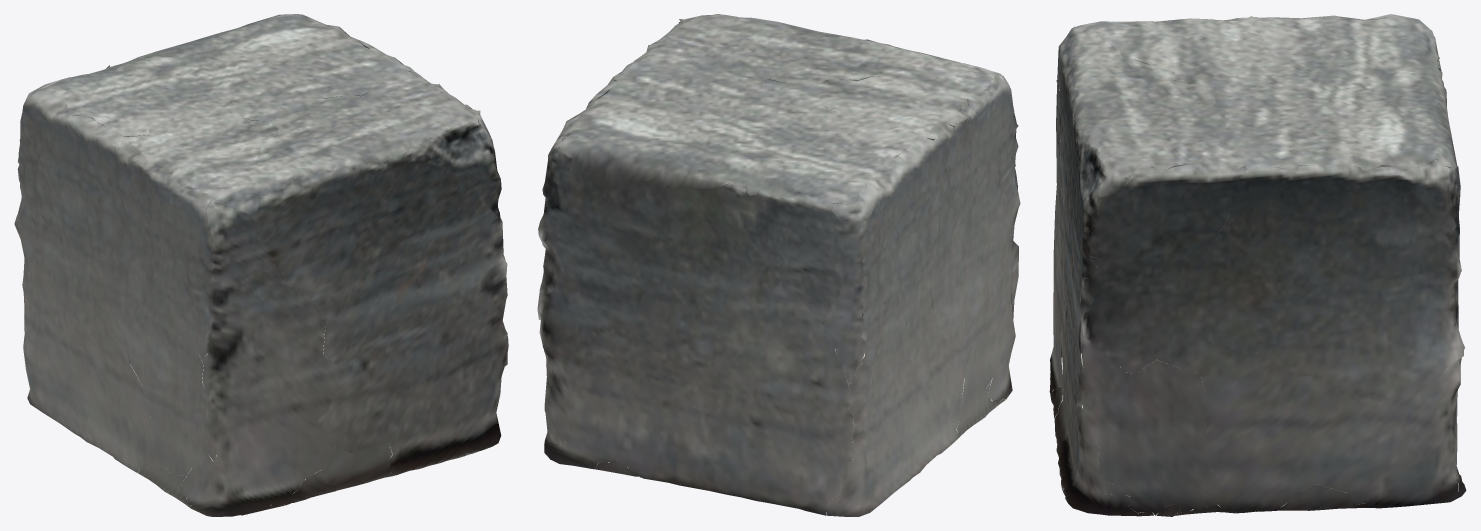
Rendered from Tsukubai.glb.
The picture shows the model from 3 angles, left to right: view 1: azimuth 30°, elevation 25°; view 2: azimuth 150°, elevation 25°; view 3: azimuth 270°, elevation 25°; orthographic projection. The views are drawn at different scales.
Visible parts, largest first — view 1: Object_2.008; view 2: Object_2.008; view 3: Object_2.008.
Boxes of the visible parts, left/top/right/bottom form: Object_2.008: left=14, top=14, right=508, bottom=516; Object_2.008: left=537, top=14, right=1020, bottom=516; Object_2.008: left=1049, top=14, right=1466, bottom=516.
Bounding box in the file's own units: 0.9278 × 0.842 × 0.9361.
1 material, 1 textured.
